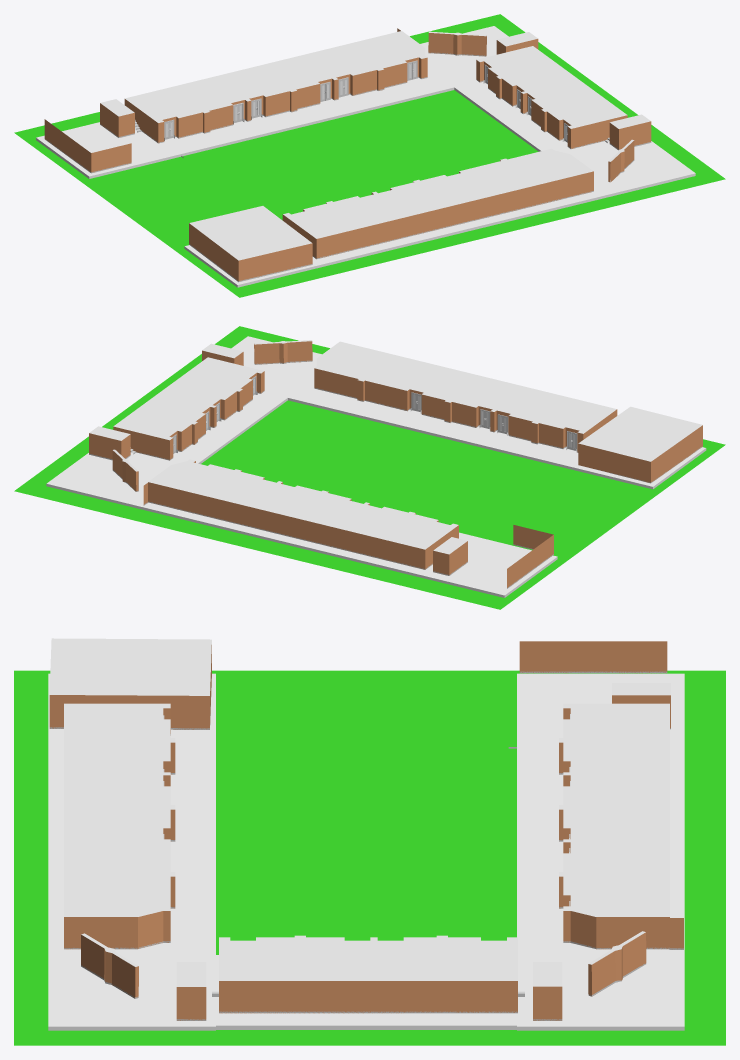
Rendered from fp-grafkom (4).gltf.
3 renders of one model, top to bottom at view 1: azimuth 30°, elevation 25°; view 2: azimuth 150°, elevation 25°; view 3: azimuth 270°, elevation 25°, orthographic. The views are drawn at different scales.
Visible parts, largest first — view 1: Plane, Cube, Ceiling, Ceiling.002, Room, Ceiling.001, Room.001, Ceiling.008, Room.010, Room.002, Room.007, Room.004 (+3 smaller); view 2: Plane, Cube, Ceiling, Ceiling.002, Room.001, Ceiling.001, Room, Ceiling.008, Room.010, Room.002, Room.007, Room.011 (+3 smaller); view 3: Plane, Cube, Ceiling, Ceiling.002, Ceiling.001, Room.002, Ceiling.008, Room.007, Room, Room.001, Room.010, Room.004 (+7 smaller).
Boxes of the visible parts, x1,y1,x2,y2 form: Plane: (14,14,725,297); Cube: (36,26,695,287); Ceiling: (283,148,593,238); Ceiling.002: (125,31,426,122); Room: (282,160,593,259); Ceiling.001: (477,46,627,128); Room.001: (124,57,427,143); Ceiling.008: (189,206,311,260); Room.010: (189,223,312,281); Room.002: (476,60,627,148); Room.007: (44,119,131,172); Room.004: (428,33,486,56); Plane: (14,326,725,609); Cube: (46,336,706,597); Ceiling: (314,341,616,433); Ceiling.002: (148,459,458,549); Room.001: (148,461,458,569); Ceiling.001: (113,357,263,440); Room: (314,368,617,452); Ceiling.008: (578,406,702,461); Room.010: (578,425,702,482); Room.002: (113,371,264,459); Room.007: (507,525,553,587); Room.011: (254,341,312,364); Plane: (14,670,725,1045); Cube: (48,673,684,1030); Ceiling: (64,703,175,916); Ceiling.002: (559,703,669,916); Ceiling.001: (219,935,517,980); Room.002: (219,981,517,1013); Ceiling.008: (49,638,211,695); Room.007: (519,641,667,673); Room: (64,704,175,949); Room.001: (559,708,669,949); Room.010: (49,645,211,729); Room.004: (588,932,646,996).
Bounding box in the file's own units: 60.09 × 3.35 × 48.25.
